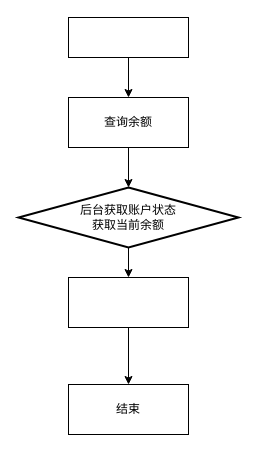
Some shapes in this 256 by 452 pixel diagram are drawn without their labels. Here are the shapes that lost their labels. From the top down, the centre of each, then its label:
At (128,37): "开始".
At (128,302): "返回结果".
